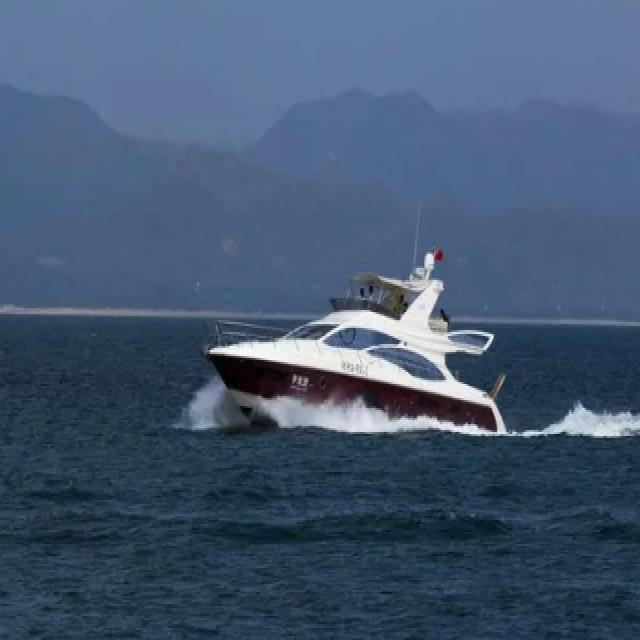houseboat: (202, 242, 515, 468)
